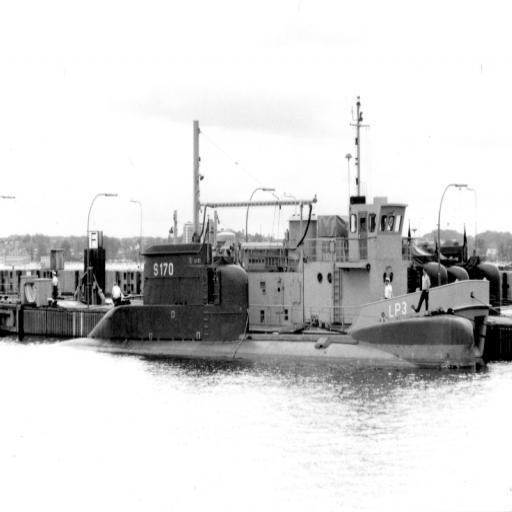submarine: (55, 242, 421, 372)
